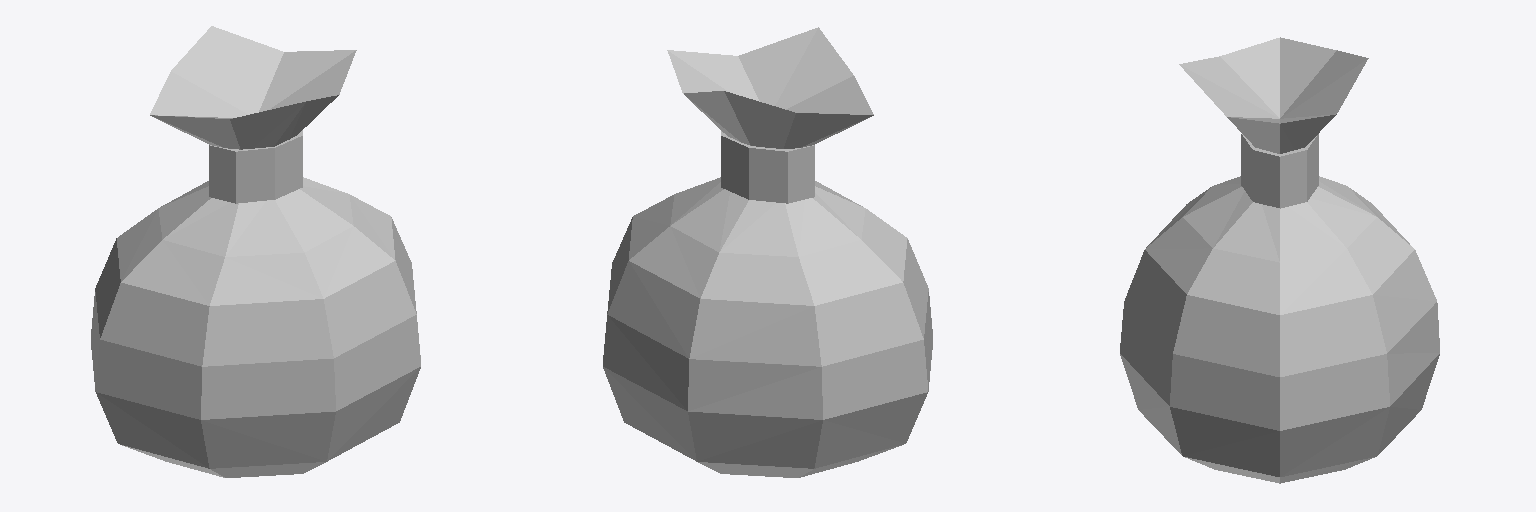
Rendered from Biggest Bomb Bag.obj.
3 views of the same model, side by side, from view 1: azimuth 30°, elevation 25°; view 2: azimuth 150°, elevation 25°; view 3: azimuth 270°, elevation 25° (orthographic).
Visible parts, largest first — view 1: biggestbag_pouch_geom-[number redacted], biggestbag_ring_geom-03CB1BF5; view 2: biggestbag_pouch_geom-[number redacted], biggestbag_ring_geom-03CB1BF5; view 3: biggestbag_pouch_geom-[number redacted], biggestbag_ring_geom-03CB1BF5.
Boxes of the visible parts, box(x1,y1,x2,y2) form: biggestbag_pouch_geom-[number redacted]: box(91, 26, 420, 477); biggestbag_ring_geom-03CB1BF5: box(209, 130, 302, 203); biggestbag_pouch_geom-[number redacted]: box(603, 27, 932, 477); biggestbag_ring_geom-03CB1BF5: box(721, 131, 814, 203); biggestbag_pouch_geom-[number redacted]: box(1120, 37, 1439, 483); biggestbag_ring_geom-03CB1BF5: box(1241, 134, 1318, 208).
Bounding box in the file's own units: 0.5478 × 0.6449 × 0.474.